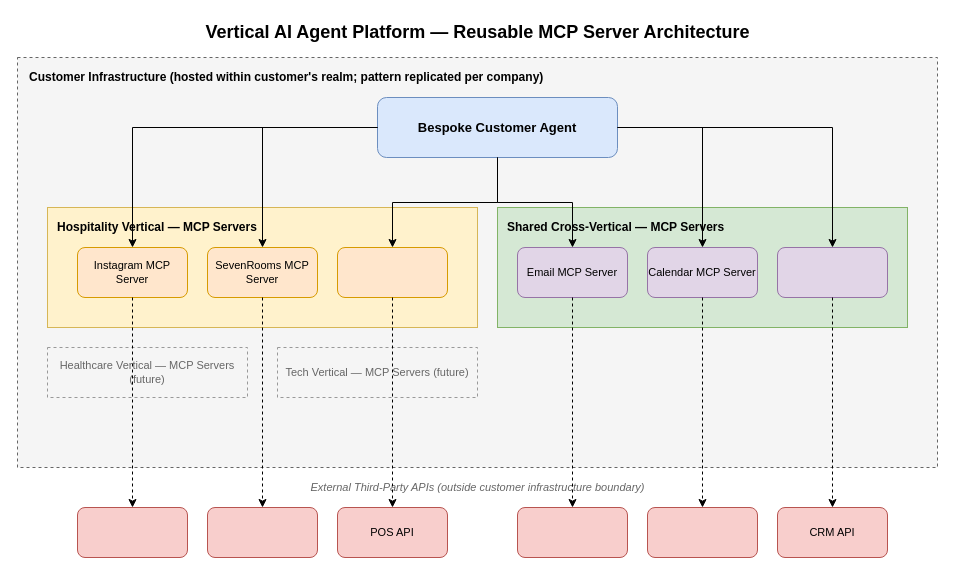
Some shapes in this 955 by 575 pixel diagram are drawn without their labels. Here are the shapes that lost their labels. From the top down, the centre of each, then its label:
At [392,272]: "POS MCP Server".
At [832,272]: "CRM MCP Server".
At [132,532]: "Instagram API".
At [262,532]: "SevenRooms API".
At [572,532]: "Email Provider API".
At [702,532]: "Calendar API".
